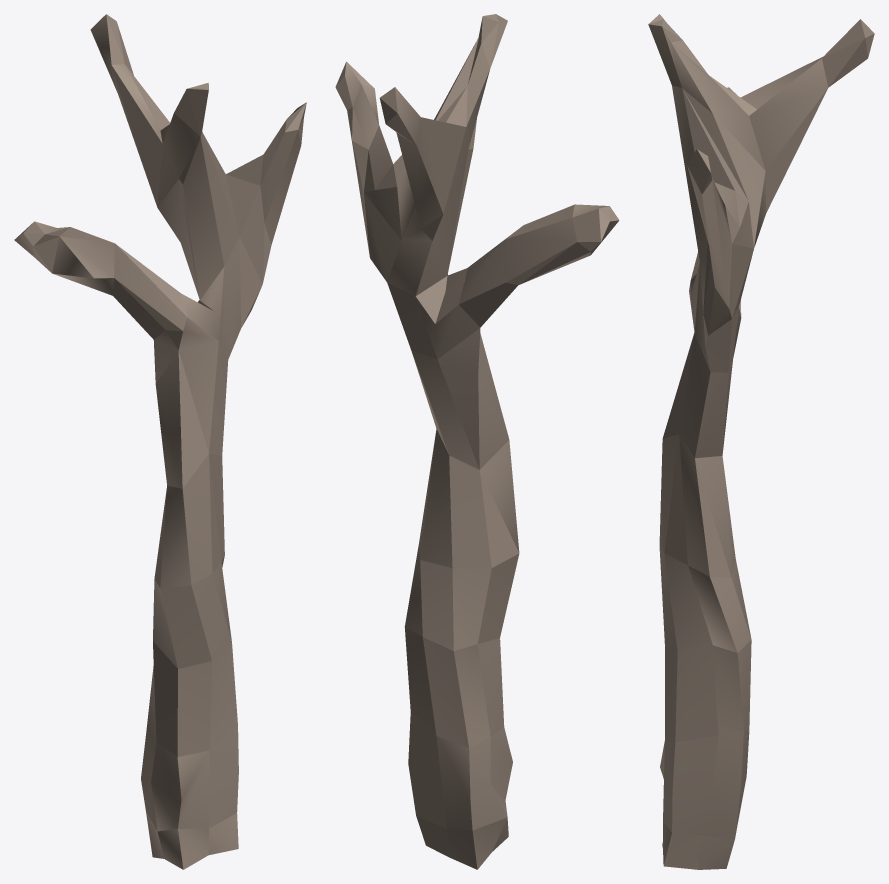
The model's file is deadTree2.fbx.
The picture shows the model from 3 angles, left to right: view 1: azimuth 30°, elevation 25°; view 2: azimuth 150°, elevation 25°; view 3: azimuth 270°, elevation 25°; orthographic projection. The views are drawn at different scales.
Visible parts, largest first — view 1: deadTree1; view 2: deadTree1; view 3: deadTree1.
Boxes of the visible parts, x1=… form: deadTree1: x1=14, y1=14, x2=306, y2=869; deadTree1: x1=335, y1=14, x2=619, y2=869; deadTree1: x1=648, y1=14, x2=874, y2=869.
Size of the model in its own units: 3.89 by 10.82 by 2.63.
